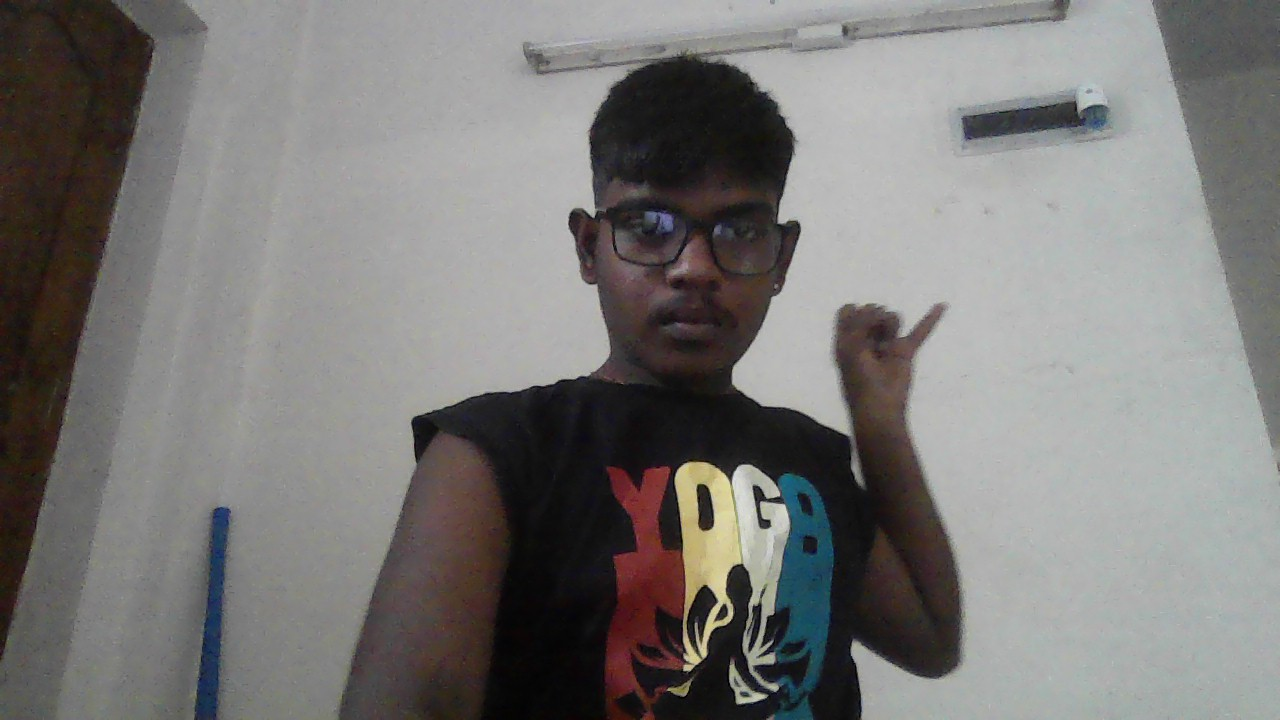J: (834, 302, 947, 418)
